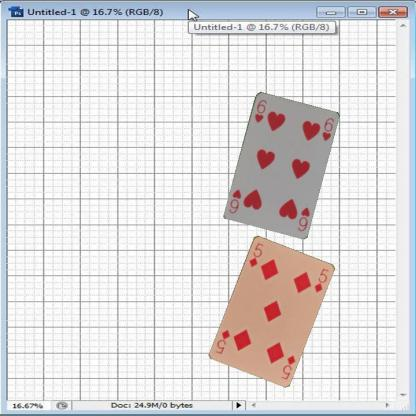5d: (278, 352, 297, 381), (246, 240, 264, 268)
6h: (252, 97, 268, 124), (295, 205, 311, 232)
